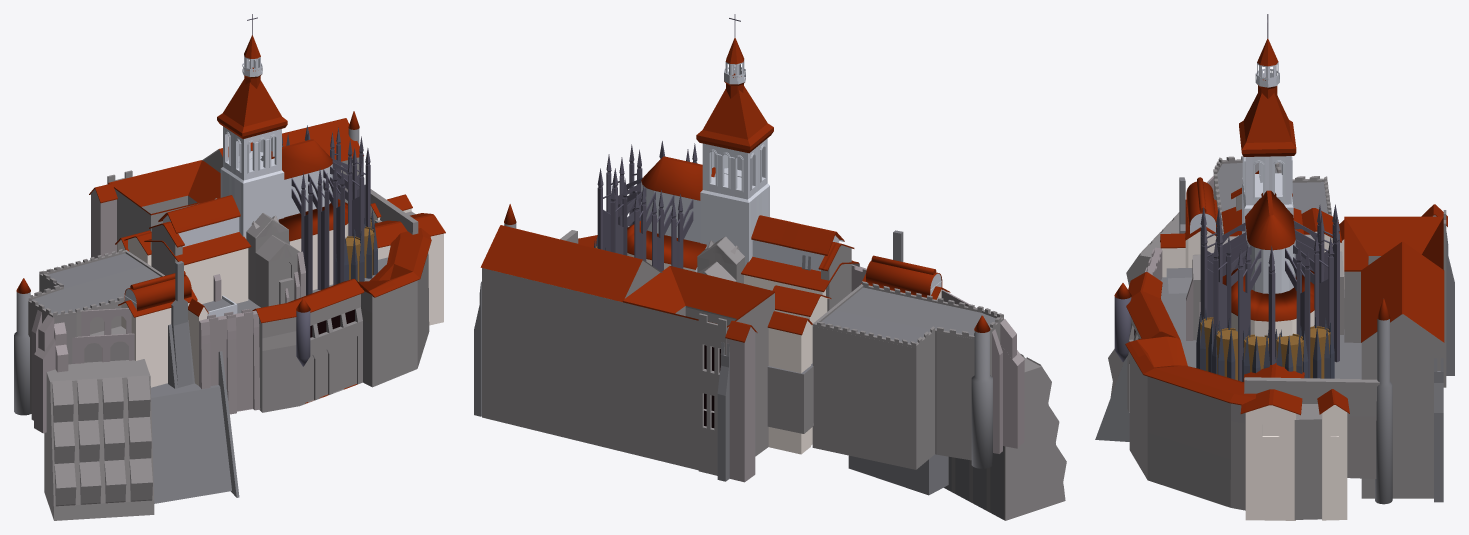
Rendered from school.glb.
The picture shows the model from 3 angles, left to right: view 1: azimuth 30°, elevation 25°; view 2: azimuth 150°, elevation 25°; view 3: azimuth 270°, elevation 25°; orthographic projection. The views are drawn at different scales.
Visible parts, largest first — view 1: Cube.014, Cube.039, Cube.038, Cube.022, Cube.056, Cube.052, Cube.016, Cylinder.008, Cube.047, Cube.012, Cube.015, Cube.048 (+19 smaller); view 2: Cube.056, Cube.052, Cube.022, Cube.039, Cylinder.008, Cube.051, Cube.054, Cube.048, Cube.050, Cylinder.007, Cube.019, Cylinder.001 (+14 smaller); view 3: Cube.056, Cube.014, Cube.015, Cube.019, Cube.022, Cylinder.008, Cube.017, Cube.018, Cylinder, Cube.052, Cylinder.007, Cube.038 (+27 smaller).
Part boxes in pixels (<box>): Cube.014: <box>251,228,431,412</box>; Cube.039: <box>44,326,154,520</box>; Cube.038: <box>151,261,239,503</box>; Cube.022: <box>215,67,300,307</box>; Cube.056: <box>108,118,363,252</box>; Cube.052: <box>28,249,164,413</box>; Cube.016: <box>199,309,260,414</box>; Cylinder.008: <box>260,139,348,290</box>; Cube.047: <box>144,232,251,303</box>; Cube.012: <box>118,289,197,387</box>; Cube.015: <box>374,213,445,325</box>; Cube.048: <box>158,195,240,246</box>; Cube.056: <box>480,225,774,470</box>; Cube.052: <box>812,281,1003,469</box>; Cube.022: <box>696,73,773,283</box>; Cube.039: <box>944,354,1066,520</box>; Cylinder.008: <box>627,156,715,272</box>; Cube.051: <box>725,320,757,482</box>; Cube.054: <box>698,313,726,475</box>; Cube.048: <box>751,215,844,271</box>; Cube.050: <box>767,311,812,454</box>; Cylinder.007: <box>724,14,942,297</box>; Cube.019: <box>560,230,813,433</box>; Cylinder.001: <box>971,315,992,468</box>; Cube.056: <box>1344,216,1444,498</box>; Cube.014: <box>1125,272,1256,510</box>; Cube.015: <box>1240,363,1304,520</box>; Cube.019: <box>1161,277,1379,478</box>; Cube.022: <box>1192,80,1344,340</box>; Cylinder.008: <box>1222,190,1314,336</box>; Cube.017: <box>1317,389,1349,520</box>; Cube.018: <box>1294,404,1321,519</box>; Cylinder: <box>1375,298,1392,504</box>; Cube.052: <box>1213,156,1331,235</box>; Cylinder.007: <box>1186,14,1279,233</box>; Cube.038: <box>1095,177,1185,441</box>.
Bounding box in the file's own units: 265 × 241 × 164.
